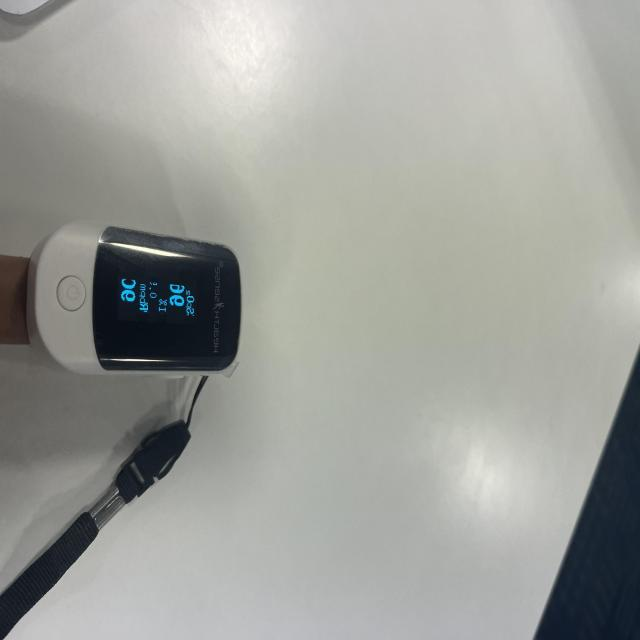spo2: (30, 227, 243, 377)
